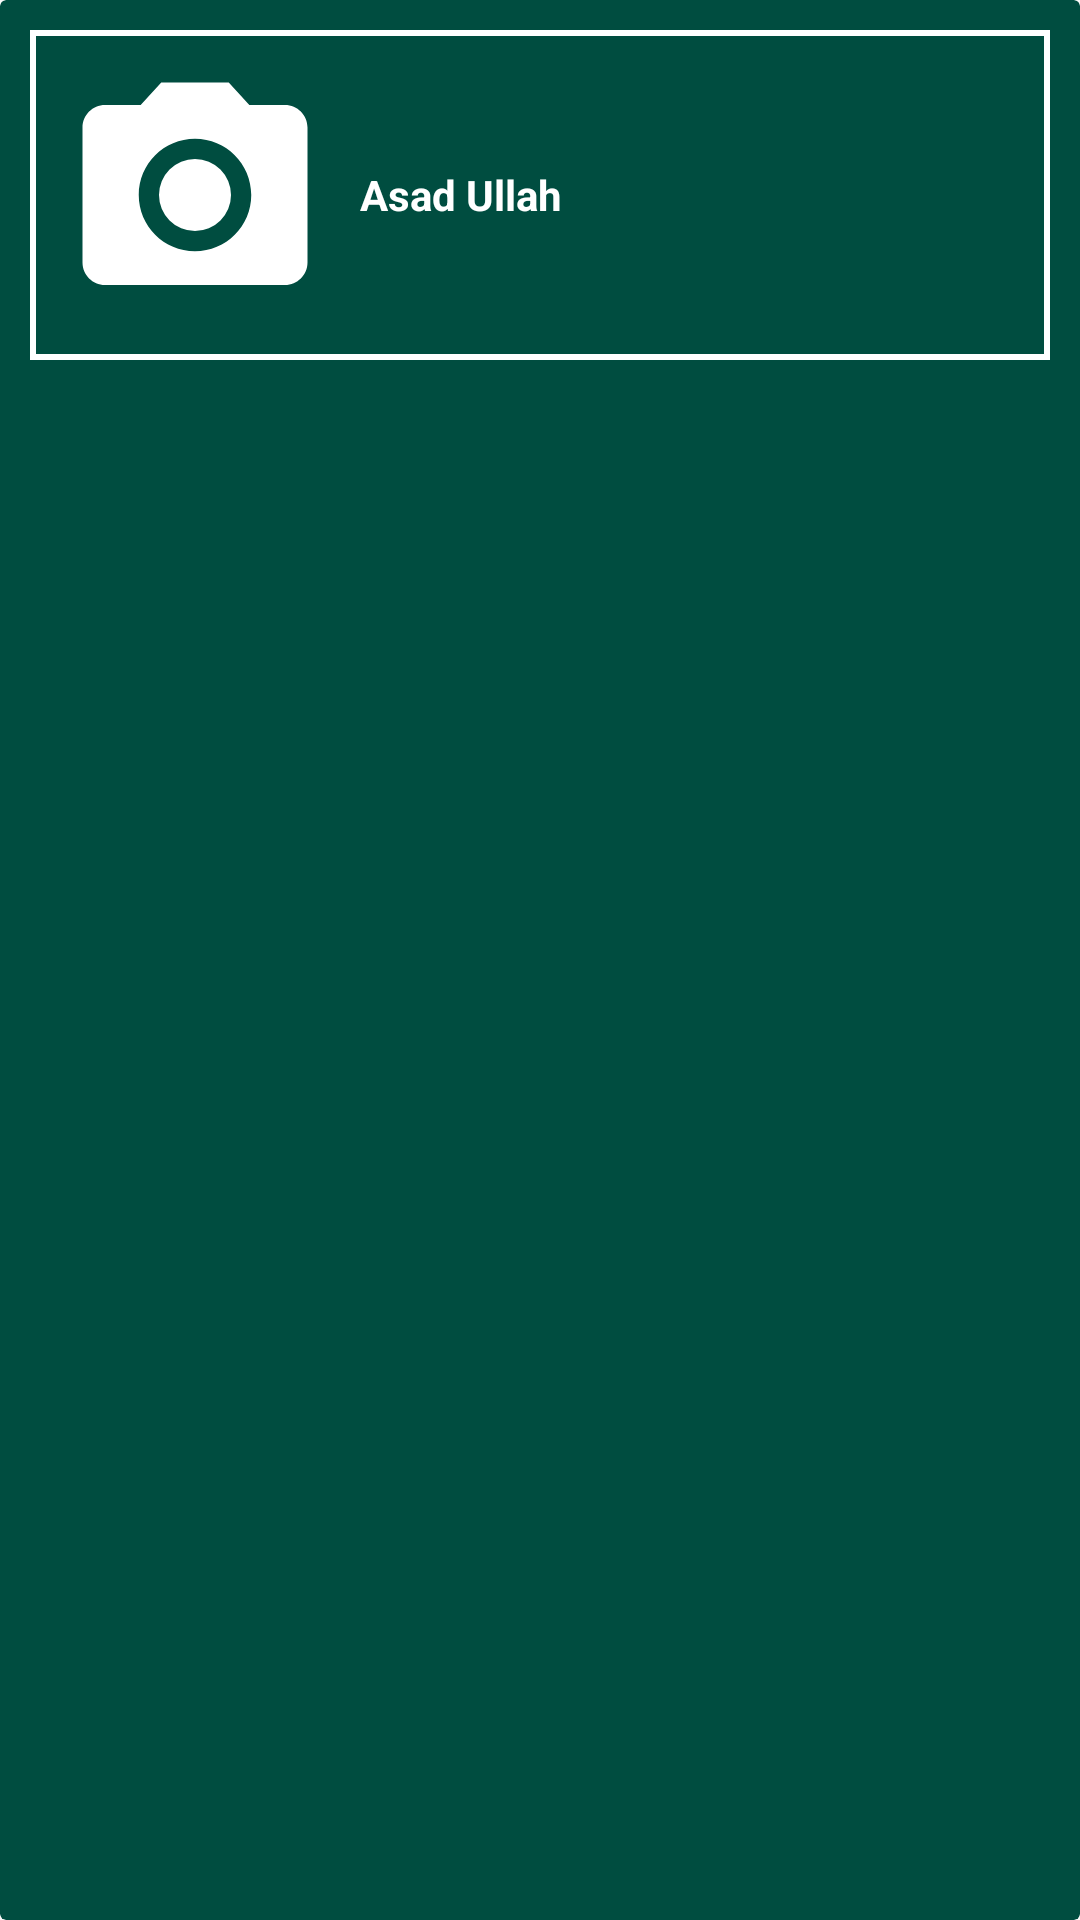

Icon click points for this 1080px×1920px phone screenshot, format (x,y):
photo camera: (195,183)
